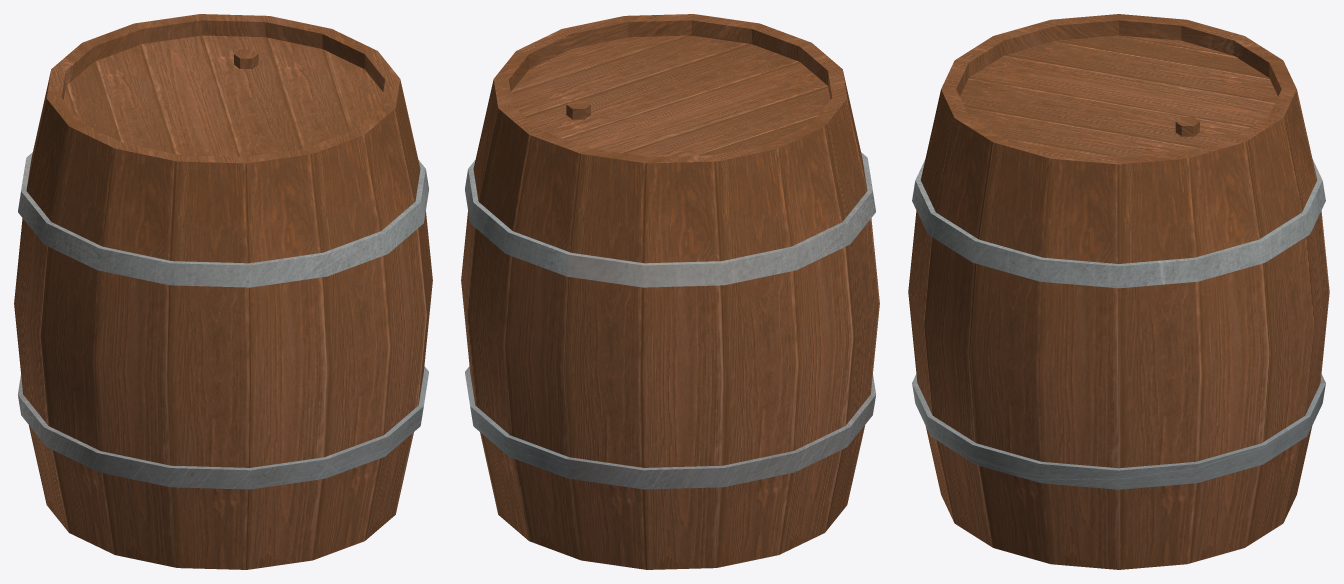
The model's file is Barrel25.fbx.
3 renders of one model, left to right at view 1: azimuth 30°, elevation 25°; view 2: azimuth 150°, elevation 25°; view 3: azimuth 270°, elevation 25°, orthographic.
Parts seen in each view (by area): view 1: Barrel25; view 2: Barrel25; view 3: Barrel25.
Part boxes in pixels (x1,y1,x2,y2): Barrel25: [14, 14, 432, 569]; Barrel25: [461, 14, 879, 569]; Barrel25: [908, 14, 1329, 569].
Bounding box in the file's own units: 39.56 × 42 × 39.56.
